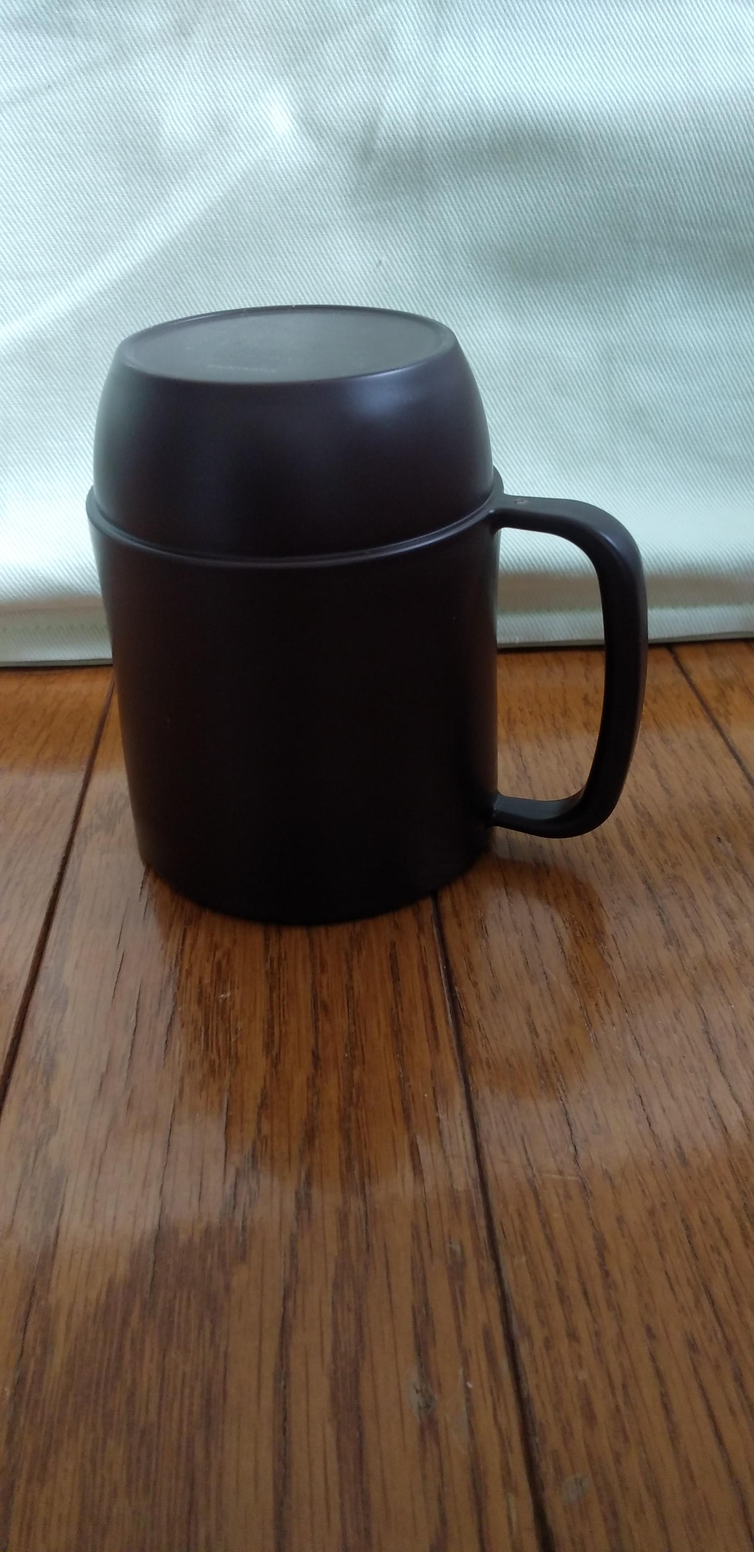mug-real100-3d100: (86, 306, 647, 925)
